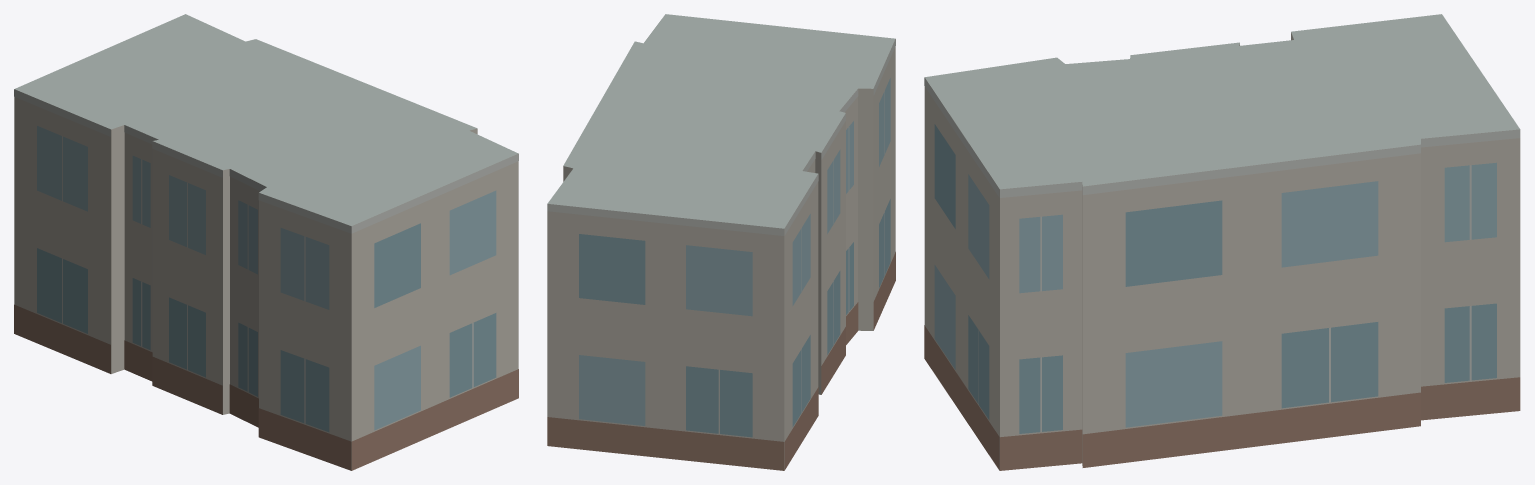
The model's file is survey-upis-32611861.glb.
3 renders of one model, left to right at view 1: azimuth 30°, elevation 25°; view 2: azimuth 150°, elevation 25°; view 3: azimuth 270°, elevation 25°, orthographic. The views are drawn at different scales.
Parts seen in each view (by area): view 1: survey-upis-32611861.tmp; view 2: survey-upis-32611861.tmp; view 3: survey-upis-32611861.tmp.
Boxes of the visible parts, bbox=[...] form: survey-upis-32611861.tmp: bbox=[14, 14, 518, 470]; survey-upis-32611861.tmp: bbox=[547, 14, 895, 470]; survey-upis-32611861.tmp: bbox=[924, 14, 1520, 470].
Bounding box in the file's own units: 10.56 × 7.9 × 15.17.
